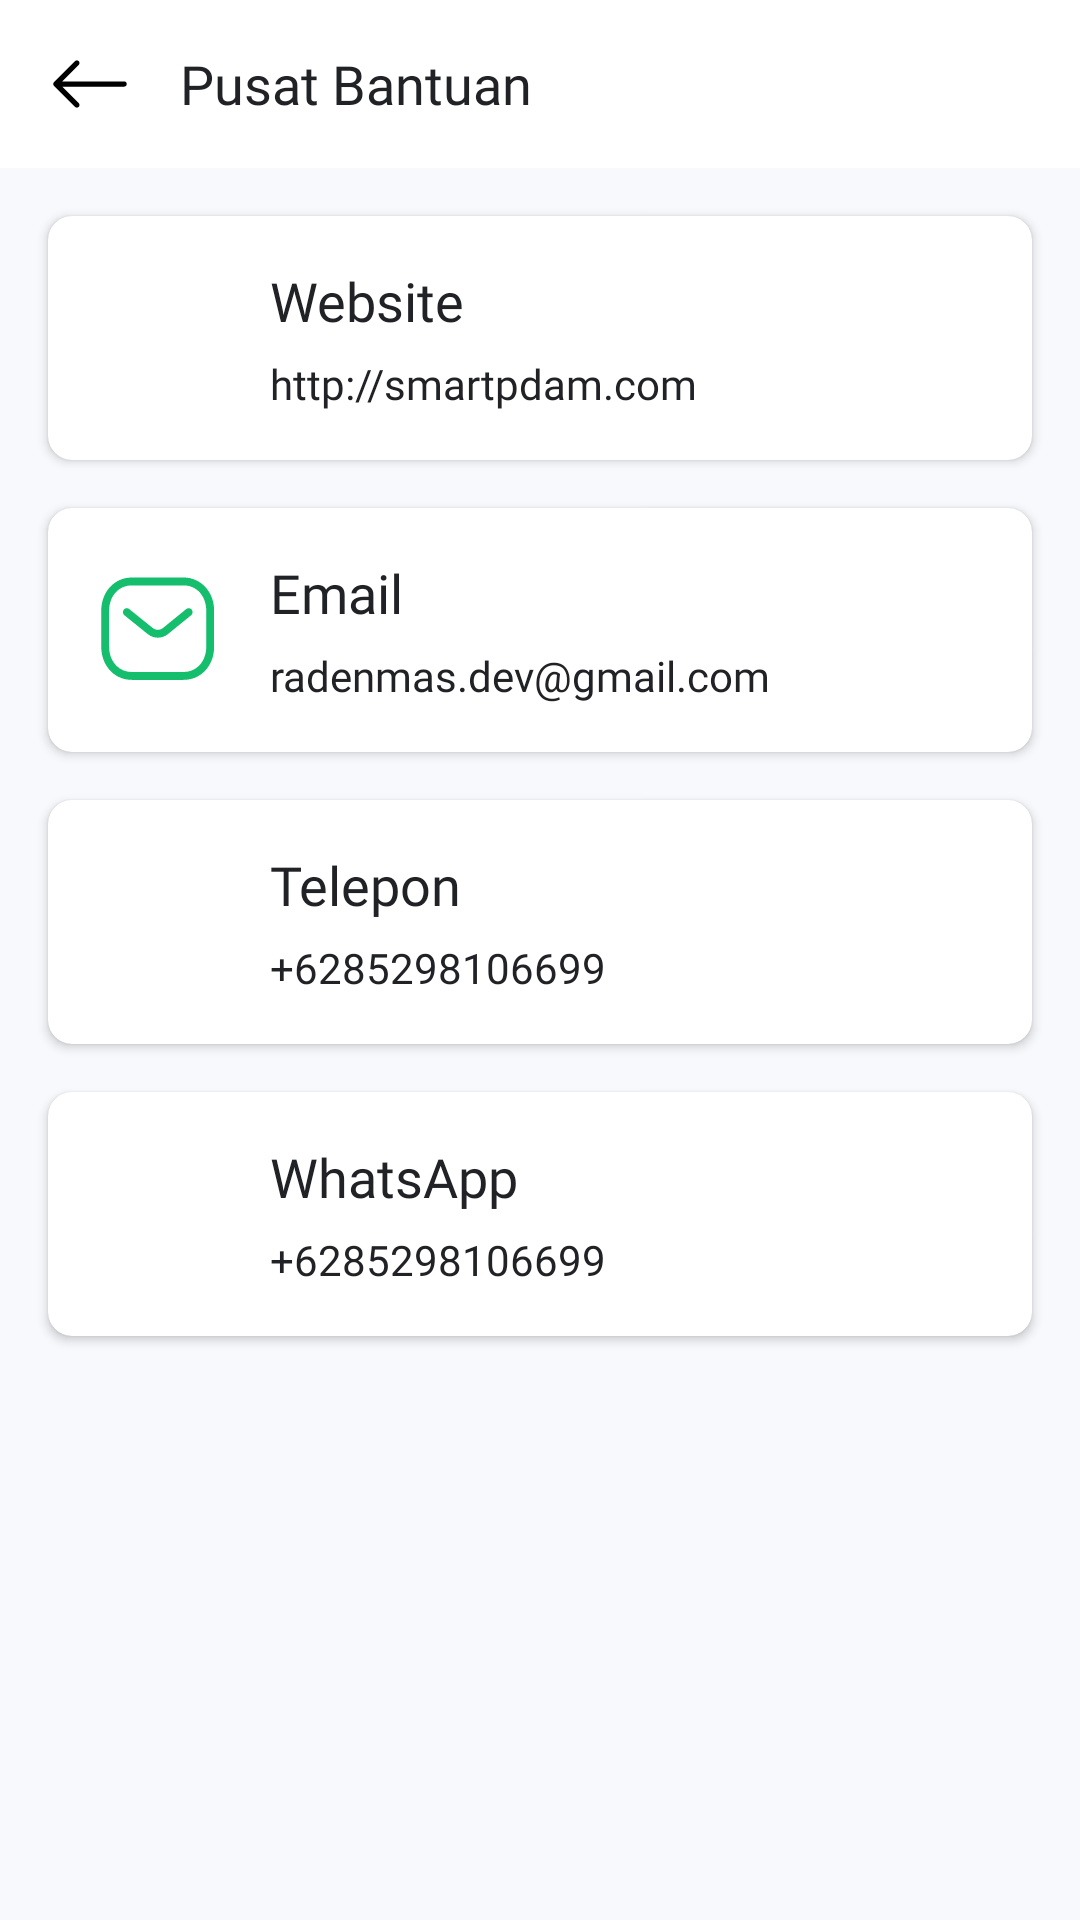

Icon click points for this 1080w x 1920h phone screenshot, format [x,y]:
arrow left: [90,84]
message: [157,628]
